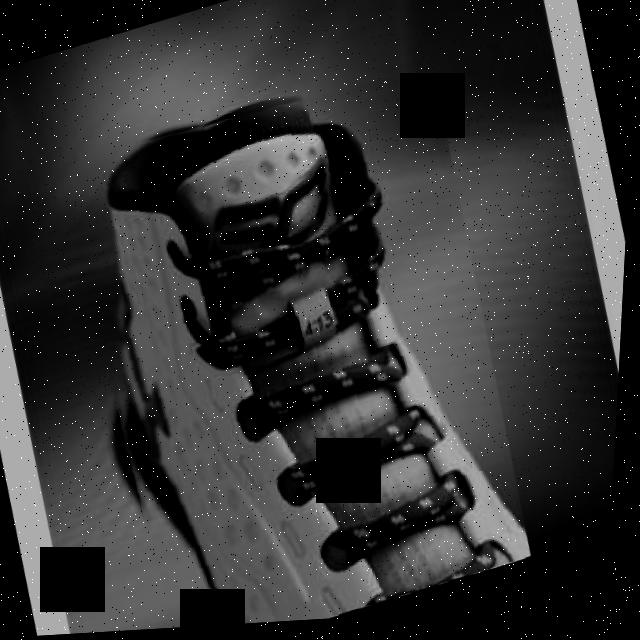shoe: (39, 50, 558, 637)
